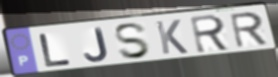J: (83, 26, 110, 63)
K: (154, 18, 191, 56)
L: (37, 32, 74, 69)
R: (188, 13, 233, 55), (228, 10, 271, 50)
S: (112, 22, 153, 61)
